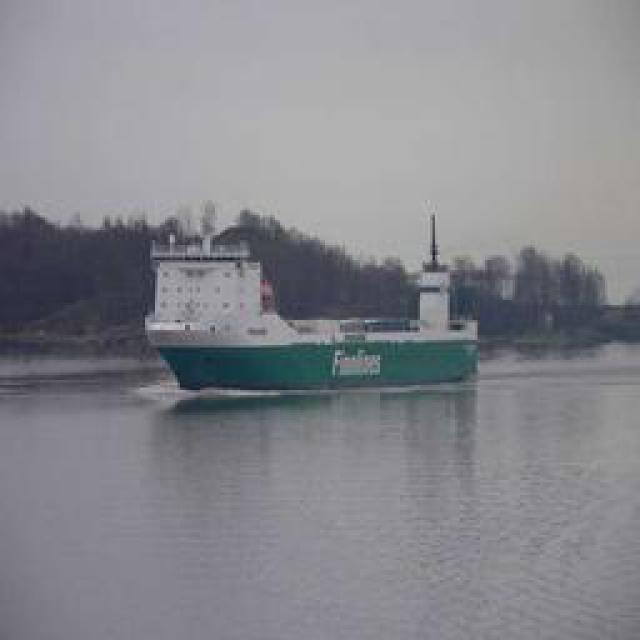Ship: (146, 220, 481, 398)
